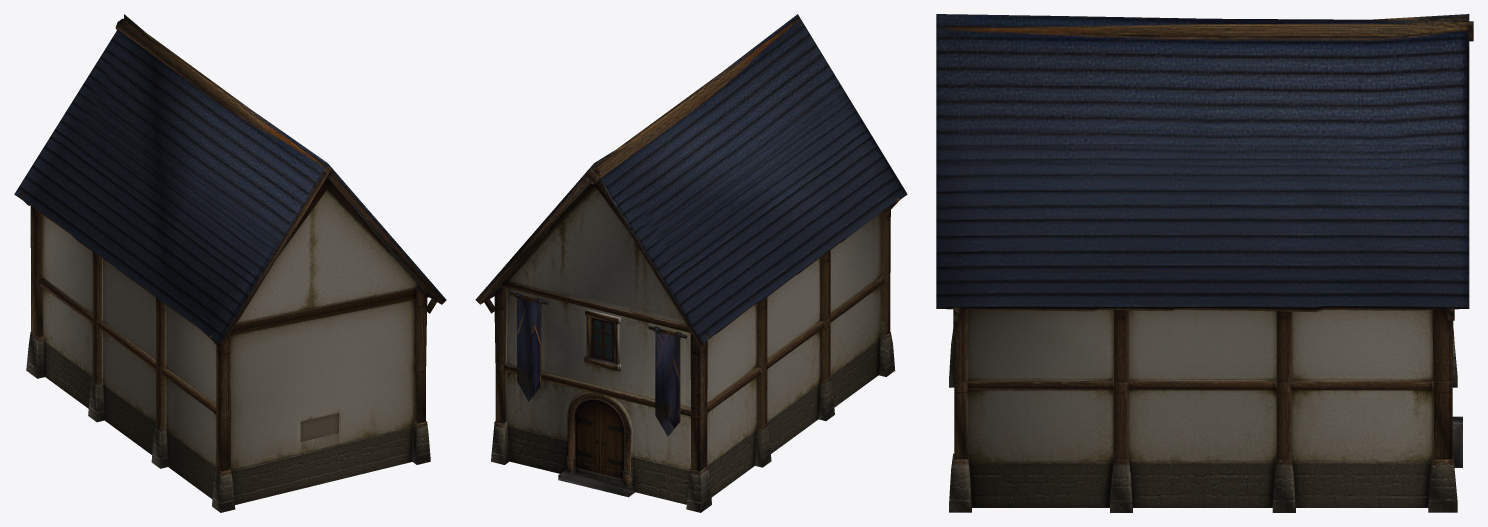
File: guild1.glb
3 views of the same model, side by side, from view 1: azimuth 30°, elevation 25°; view 2: azimuth 150°, elevation 25°; view 3: azimuth 270°, elevation 25° (orthographic). The views are drawn at different scales.
Visible parts, largest first — view 1: guildhouse; view 2: guildhouse; view 3: guildhouse.
Part boxes in pixels (box(x1,y1,x2,y2)): guildhouse: box(14, 14, 446, 512); guildhouse: box(475, 14, 907, 512); guildhouse: box(936, 14, 1473, 512).
Bounding box in the file's own units: 6.43 × 8.81 × 9.98.
1 material, 1 textured.
